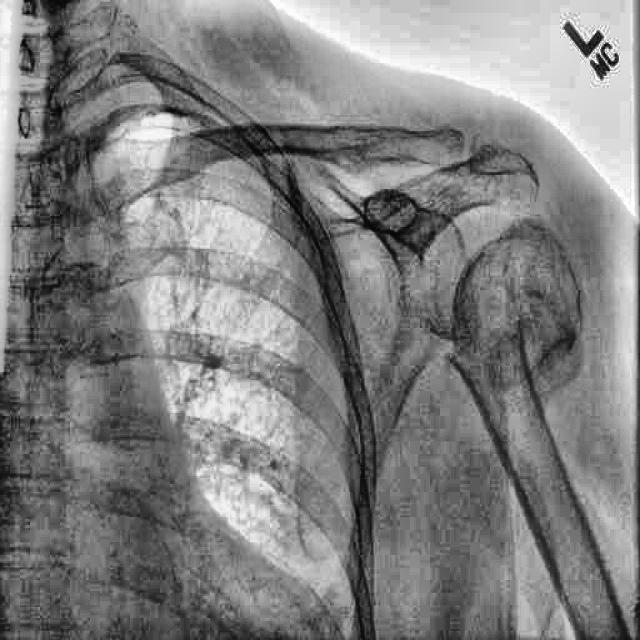shoulder fracture: (473, 201, 608, 480), (423, 280, 495, 422)
